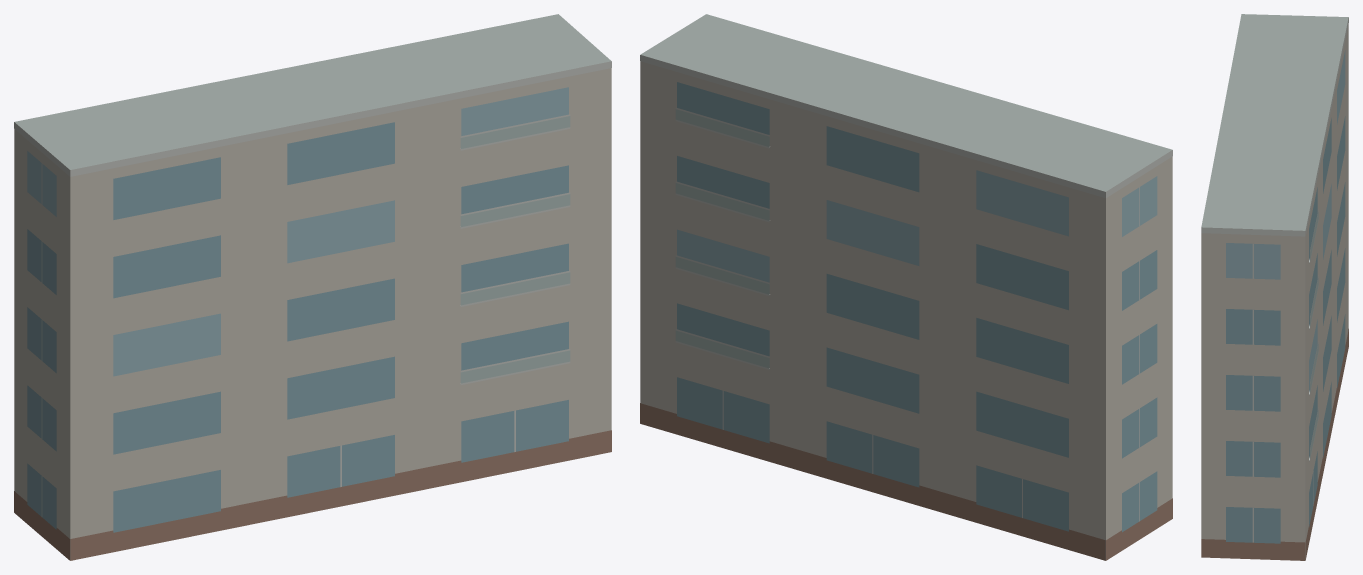
Rendered from survey-upis-32871533.glb.
The picture shows the model from 3 angles, left to right: view 1: azimuth 30°, elevation 25°; view 2: azimuth 150°, elevation 25°; view 3: azimuth 270°, elevation 25°; orthographic projection. The views are drawn at different scales.
Visible parts, largest first — view 1: survey-upis-32871533.tmp; view 2: survey-upis-32871533.tmp; view 3: survey-upis-32871533.tmp.
Boxes of the visible parts, bbox=[...] form: survey-upis-32871533.tmp: bbox=[14, 14, 611, 560]; survey-upis-32871533.tmp: bbox=[640, 14, 1172, 560]; survey-upis-32871533.tmp: bbox=[1201, 14, 1348, 560].
Size of the model in its own units: 19.74 by 14 by 5.68.
